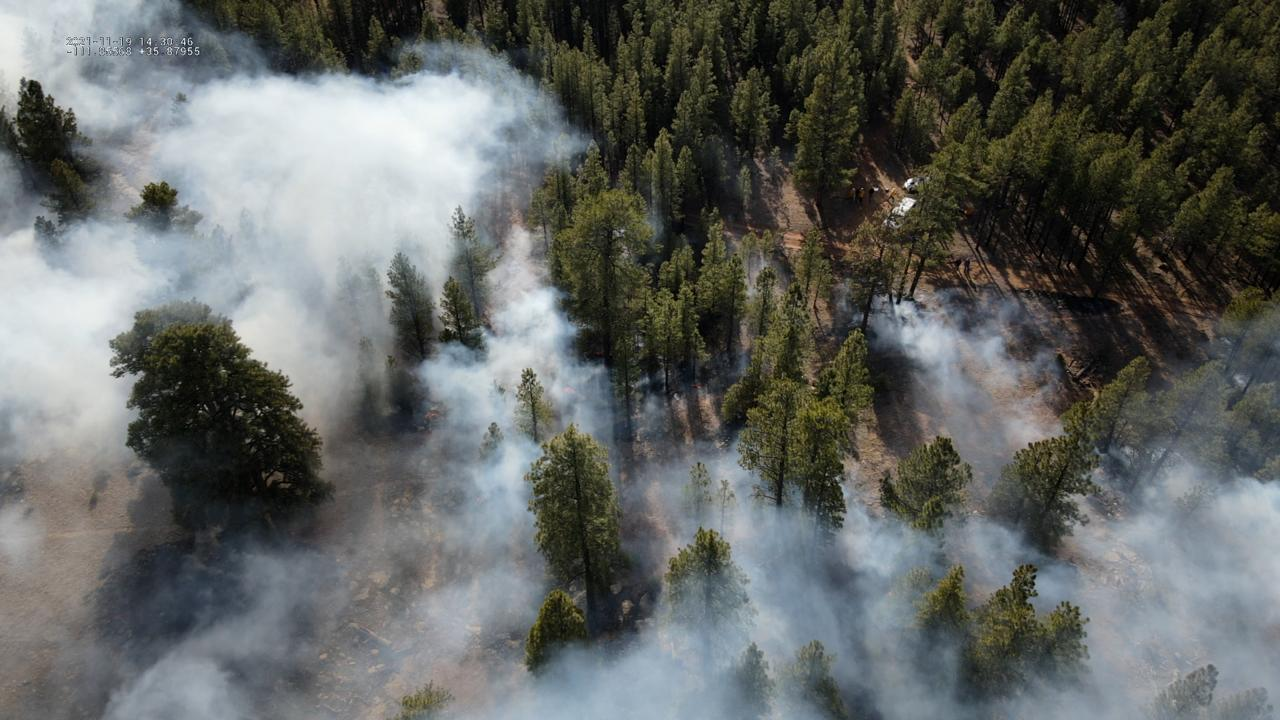fire: (963, 209, 970, 216)
smoke: (0, 0, 1280, 720)
